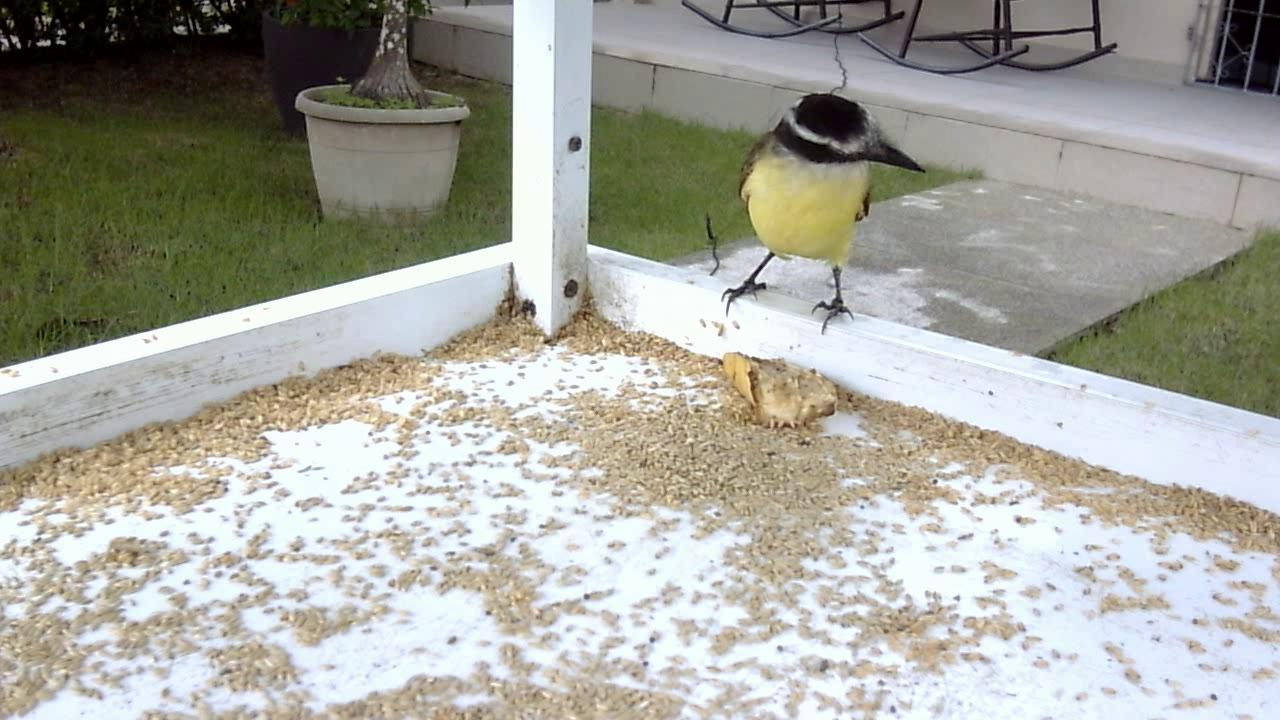bem_te_vi: (695, 80, 950, 352)
